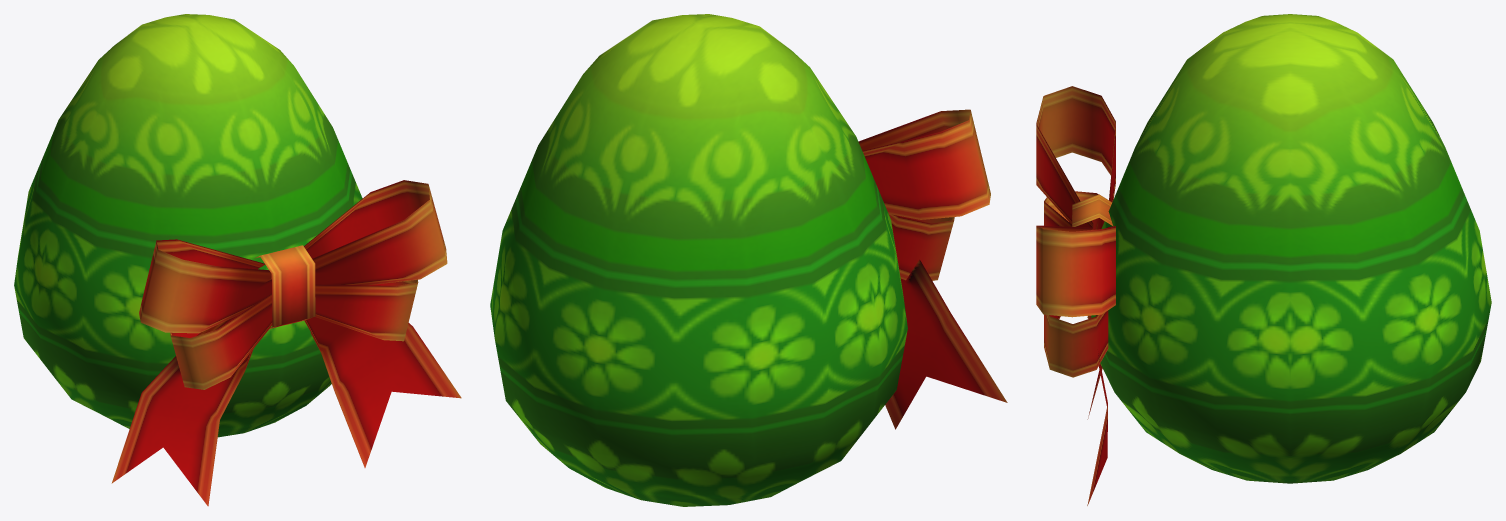
File: egg2.glb
The picture shows the model from 3 angles, left to right: view 1: azimuth 30°, elevation 25°; view 2: azimuth 150°, elevation 25°; view 3: azimuth 270°, elevation 25°; orthographic projection. The views are drawn at different scales.
Visible parts, largest first — view 1: Egg_Collect_3; view 2: Egg_Collect_3; view 3: Egg_Collect_3.
Part boxes in pixels (x1=…): Egg_Collect_3: x1=14, y1=14, x2=461, y2=506; Egg_Collect_3: x1=490, y1=14, x2=1007, y2=506; Egg_Collect_3: x1=1036, y1=14, x2=1491, y2=505.
Bounding box in the file's own units: 1.11 × 1.21 × 1.13.
1 material, 1 textured.
